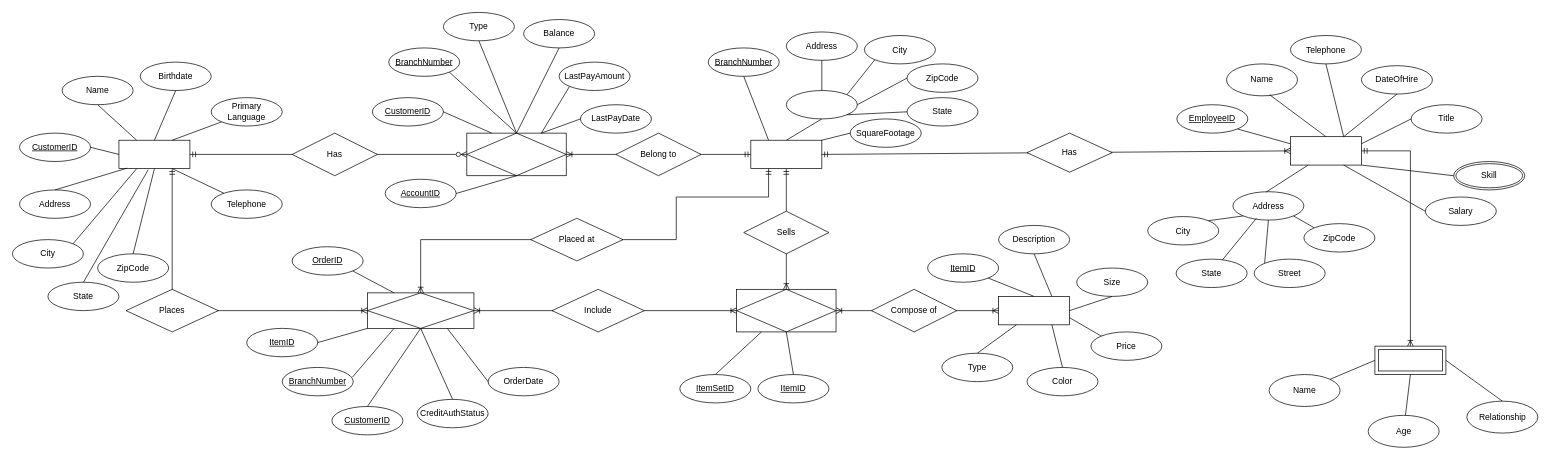
This 1551x460 diagram has some shape labels left out. Here are the shapes that lost their labels. From the top down, the centre of each, then its label:
At point (821, 104): "Location".
At point (154, 154): "Customer".
At point (516, 154): "Account".
At point (786, 154): "Branch".
At point (1325, 150): "Employee".
At point (420, 310): "Order".
At point (786, 310): "ItemSet".
At point (1034, 310): "Item".
At point (1410, 360): "Dependent".
